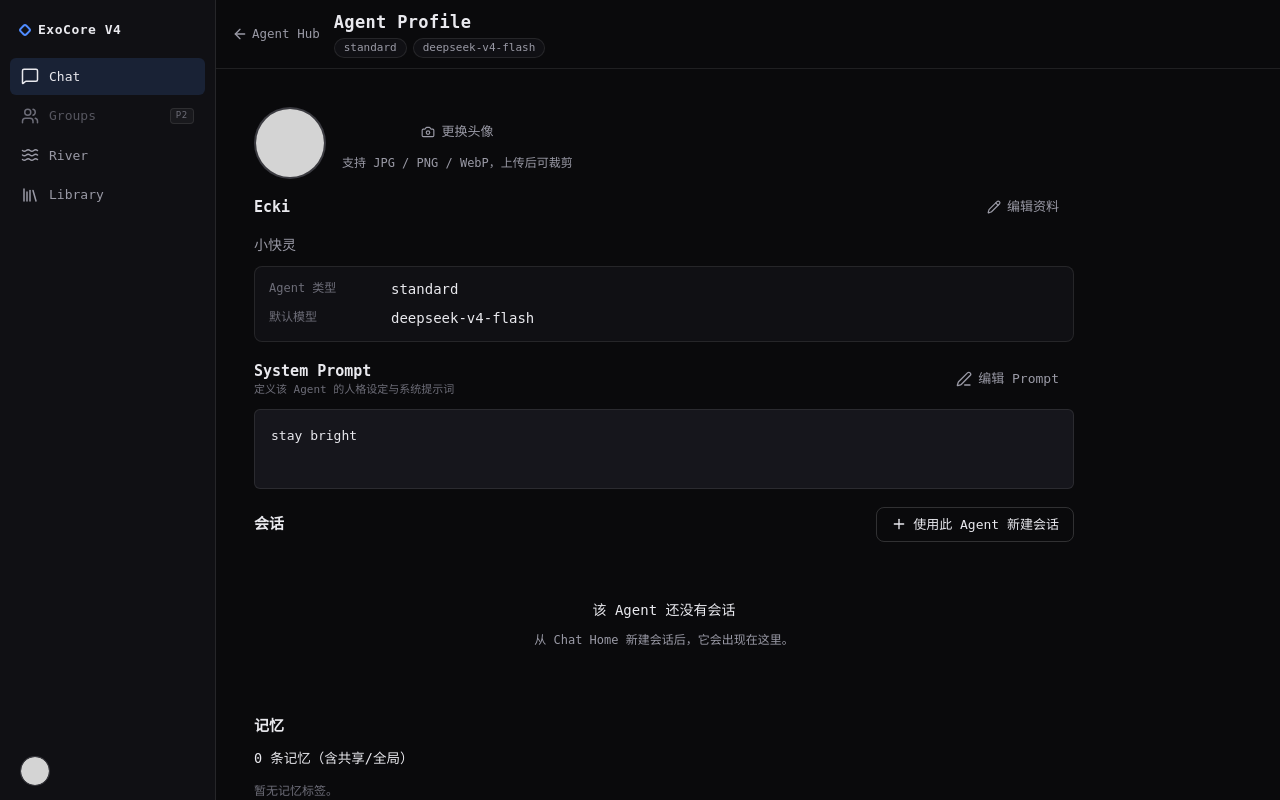
P2A Stage B fixed-Agent creation integration › blocks duplicate fixed submits while pending
Click the button "使用此 Agent 新建会话".
click(975, 524)  # box [876, 506, 1074, 542]
(page scrolled)
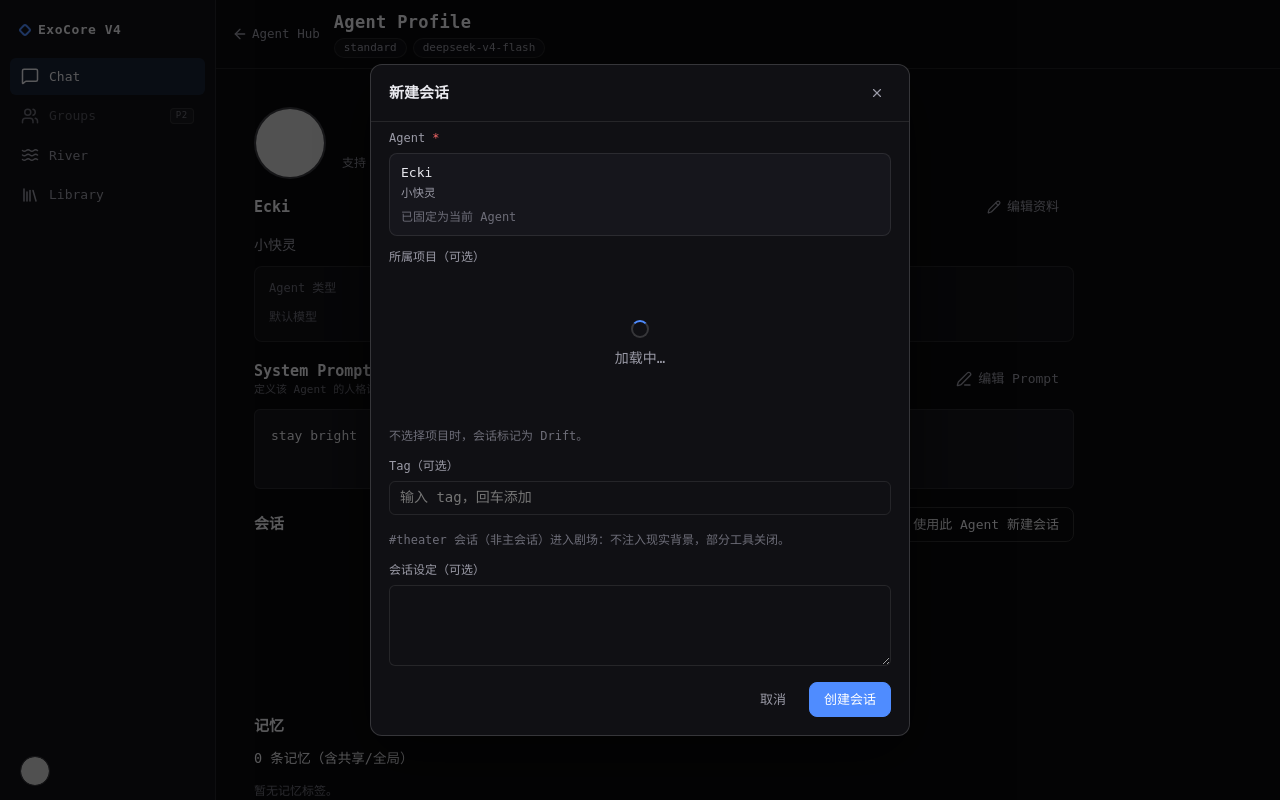
Click the button "创建会话".
click(850, 700)  # box [809, 682, 891, 717]
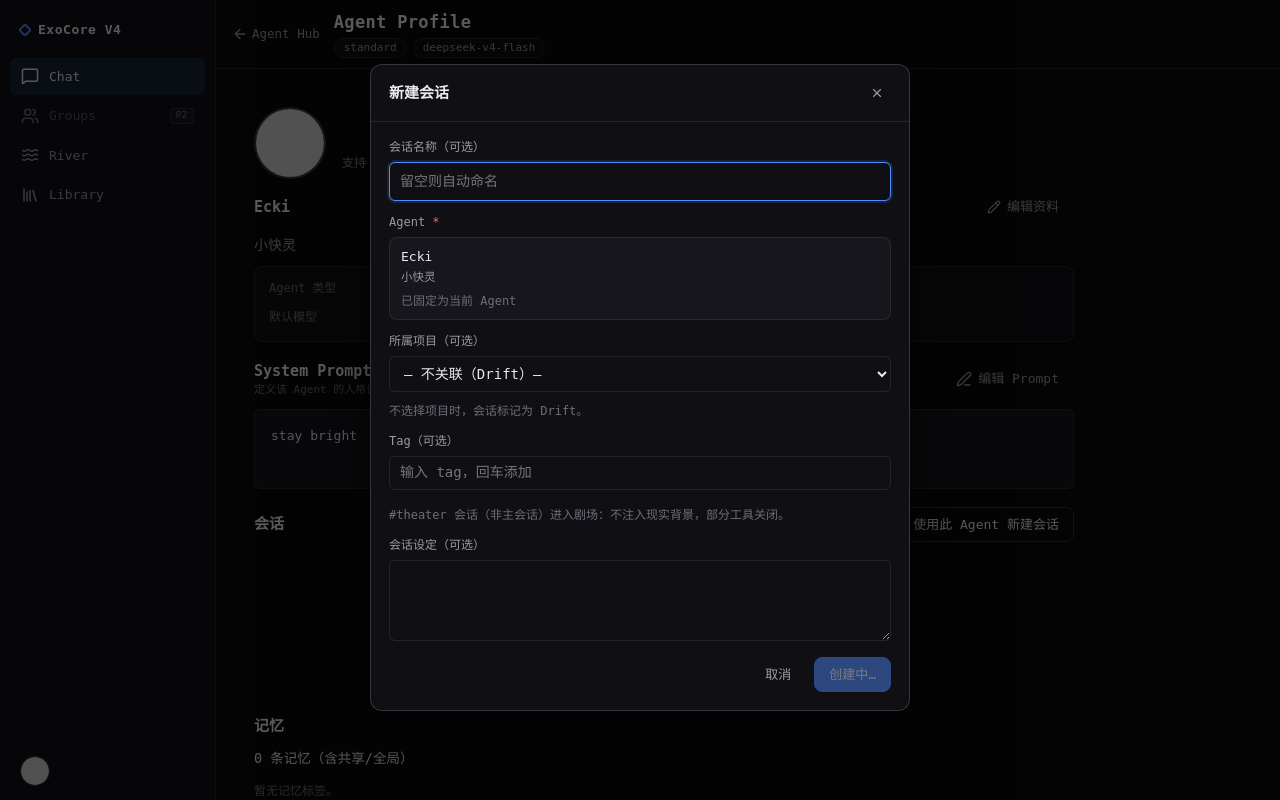
Now the button named "创建会话" is disabled
Click the button named "创建会话".
click(853, 675)  # box [814, 657, 891, 692]
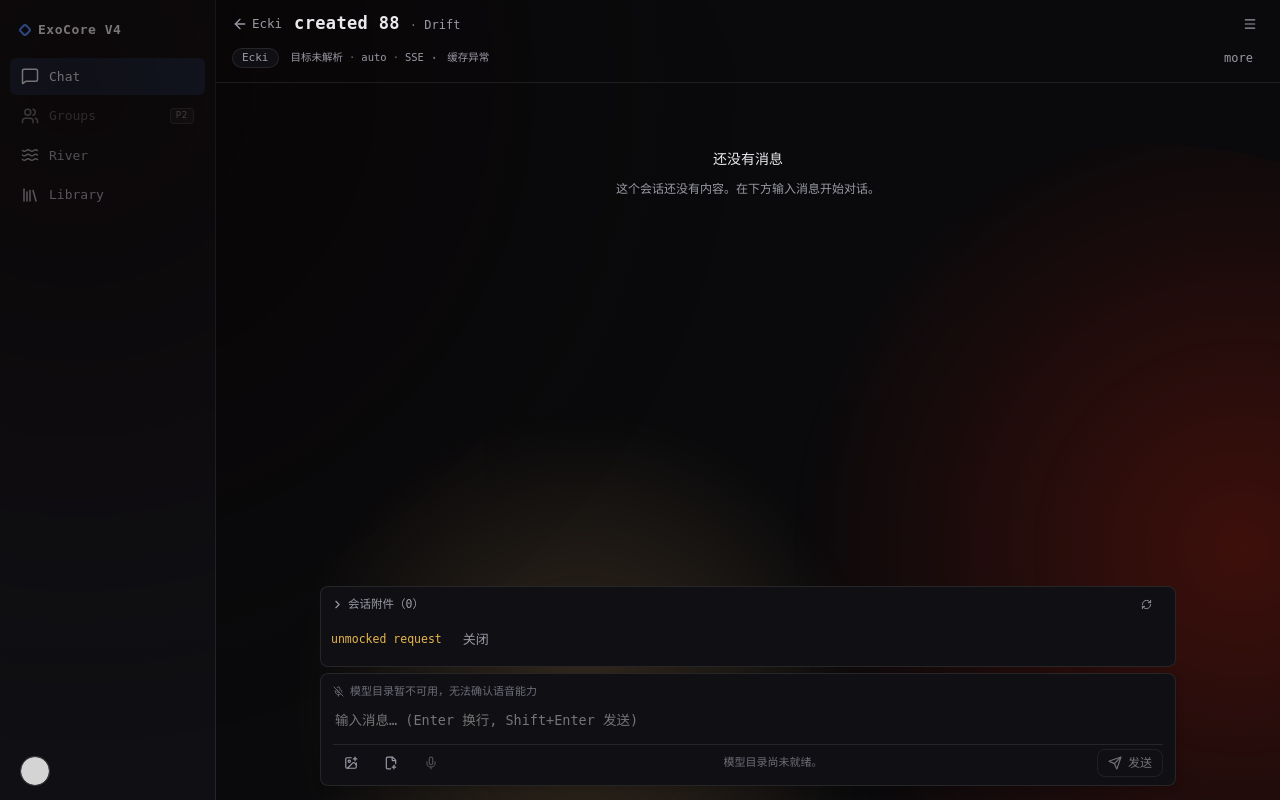
Now the text "还没有消息" is shown, box [713, 149, 783, 170]
